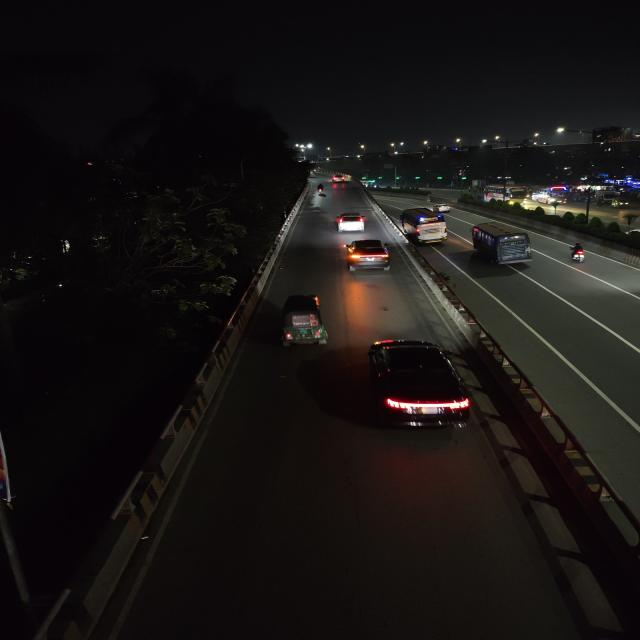bus: (470, 222, 536, 268), (399, 206, 450, 246), (483, 185, 528, 202), (529, 186, 568, 205)
car: (363, 336, 478, 434), (341, 238, 394, 274), (334, 211, 368, 234), (432, 202, 453, 214), (331, 174, 346, 184)
cng: (275, 292, 331, 352)
motorcycle: (567, 241, 589, 265), (315, 183, 326, 196)
